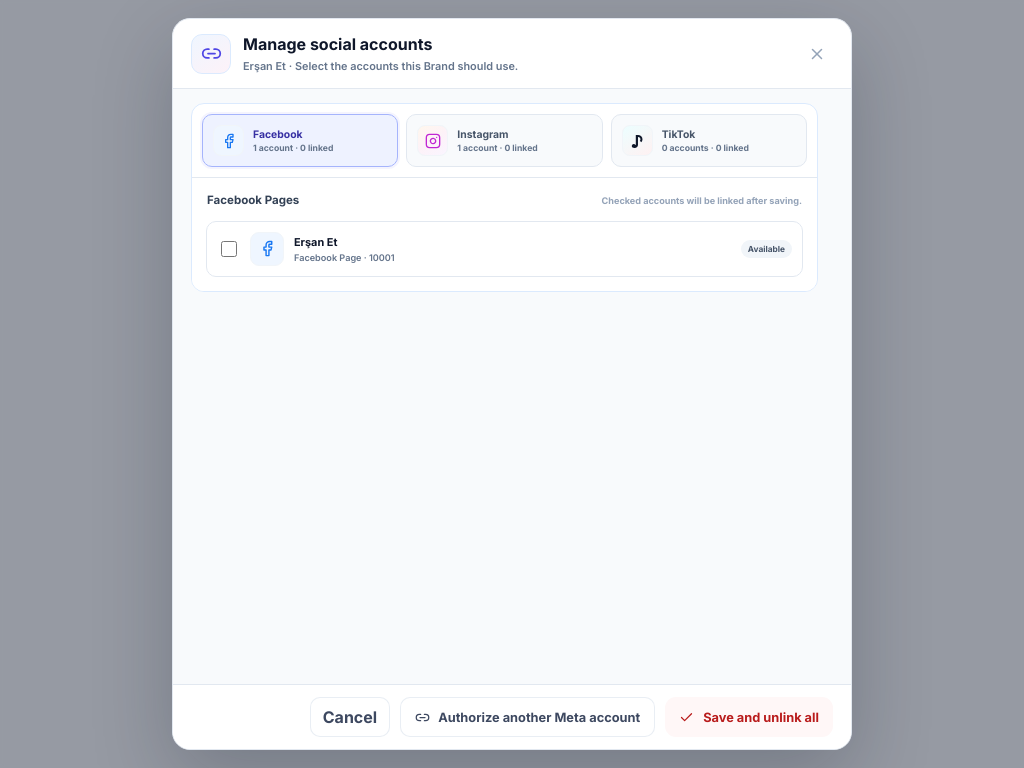
Scenario: MetaConnectionModal › shows the Meta App catalog to Settings admins for a new Brand without OAuth
Expected: the text "Erşan Et" is shown, [294,235,337,249]
Expected: the button "Facebook 1 account · 0 linked" is shown, [202,114,398,167]
Click the checkbox at (229, 249), box [221,241,237,257]
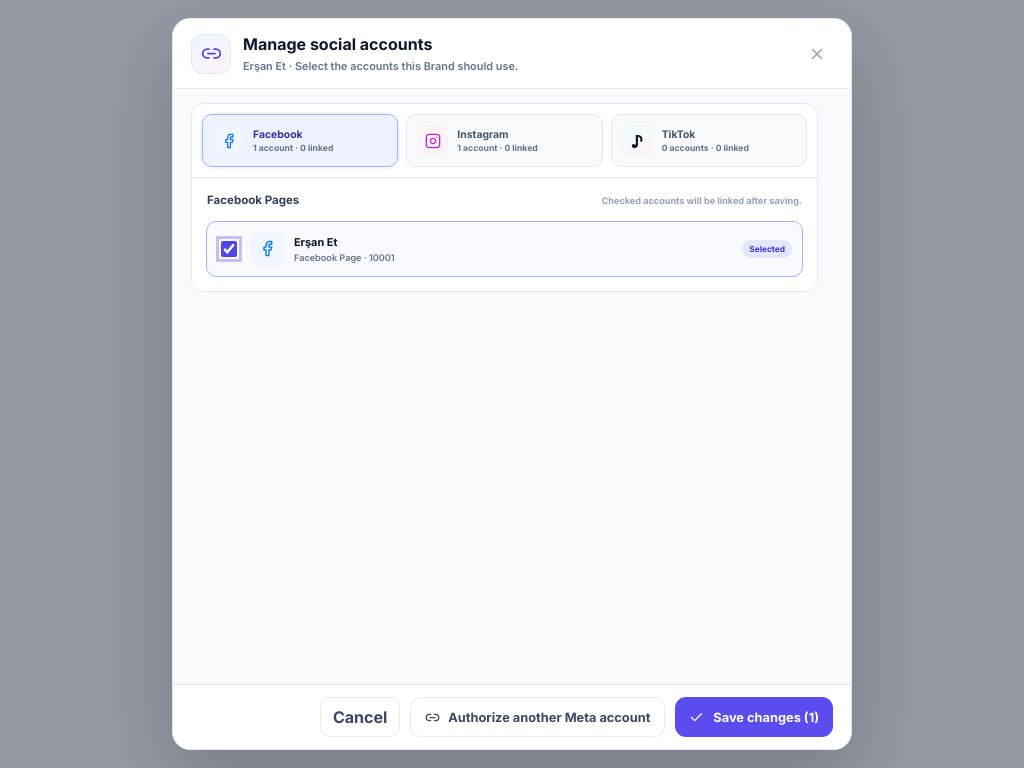
Click the button "Save changes (1)" at (754, 717), box [675,697,833,737]
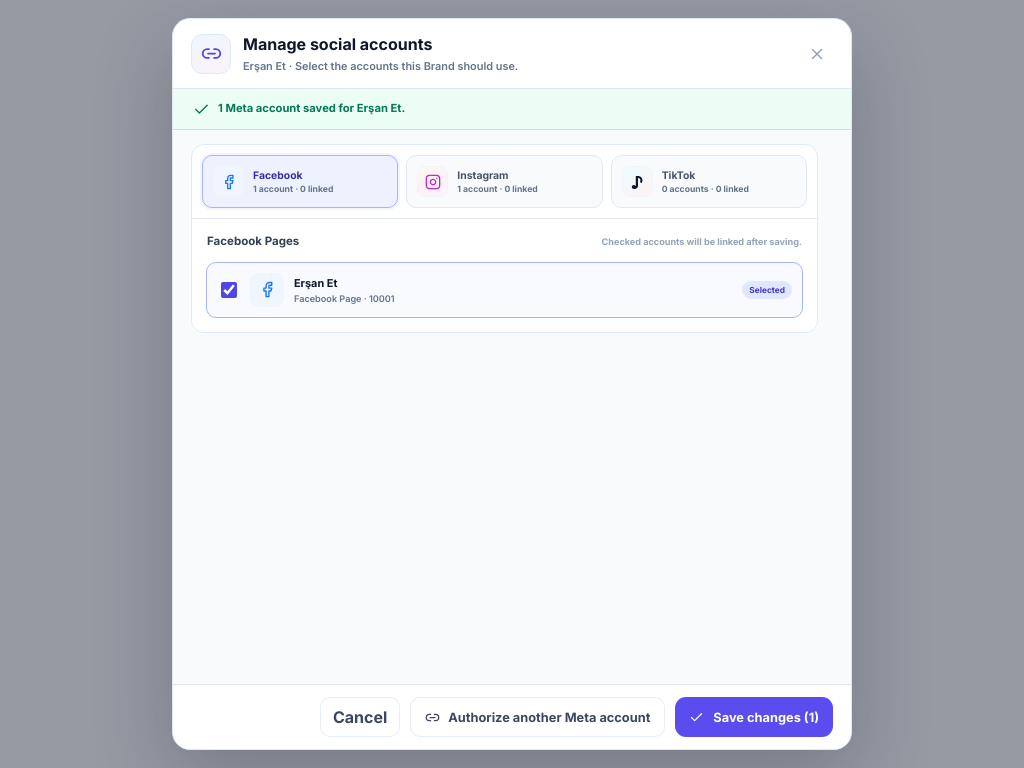
Expected: the text "1 Meta account saved for Erşan Et." is shown, [218,100,405,117]
